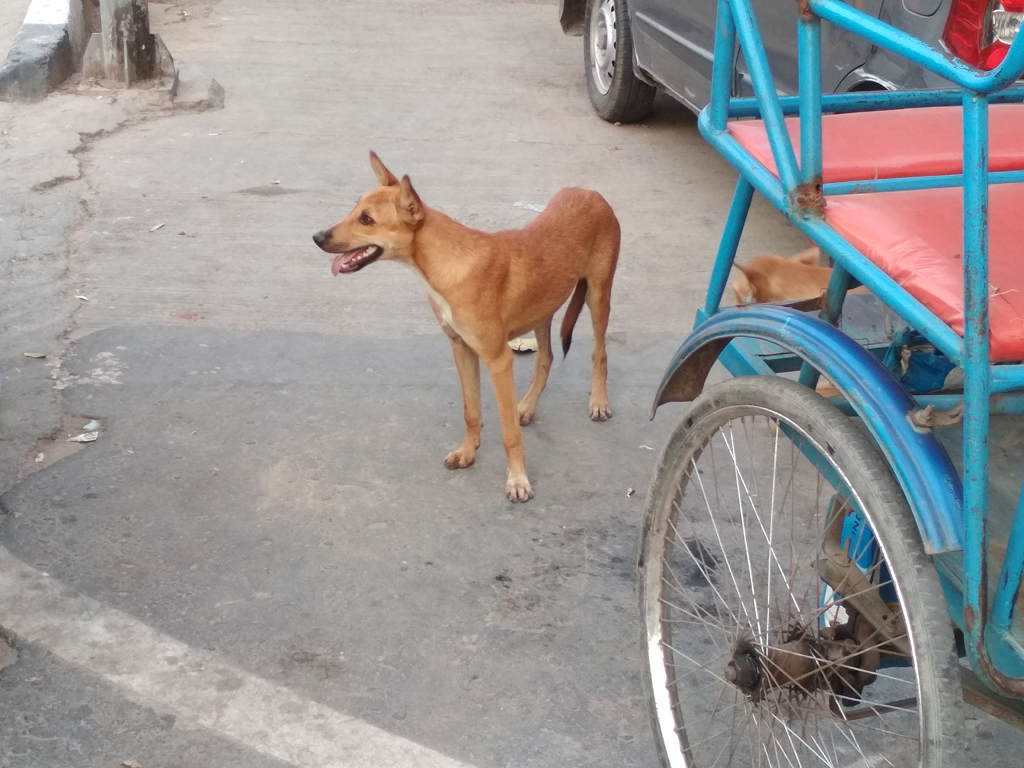dog: (312, 150, 622, 501)
